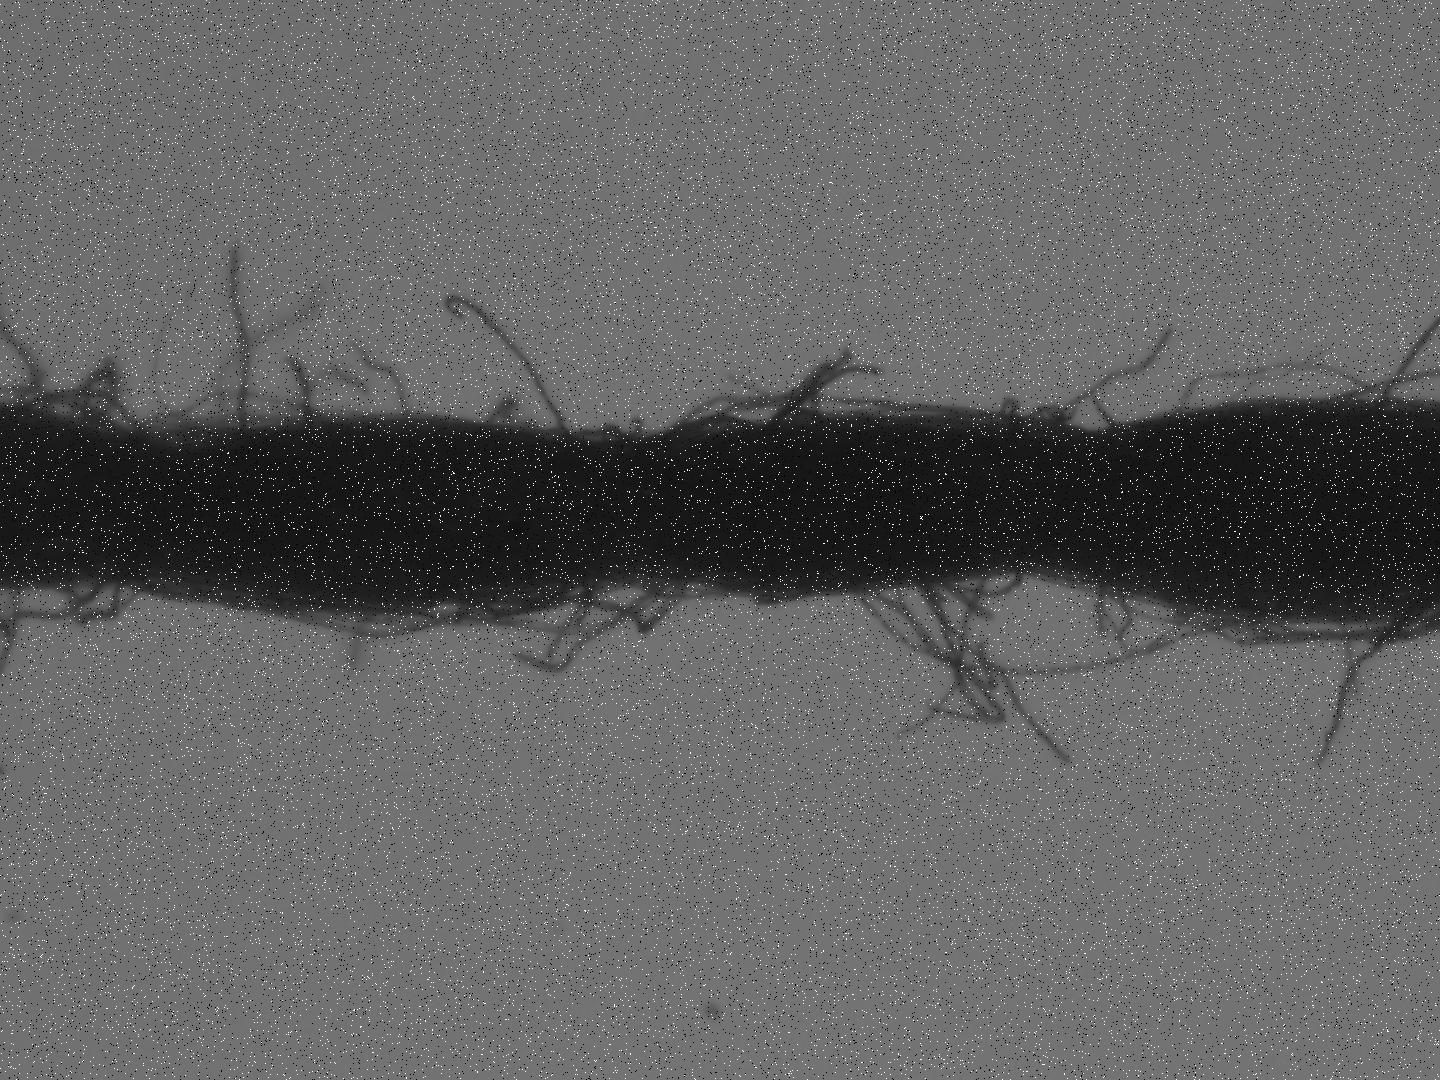loop_fiber: (1191, 600, 1438, 646), (511, 575, 692, 635), (293, 591, 481, 638), (22, 382, 147, 442), (1117, 590, 1272, 626), (66, 360, 122, 441), (65, 582, 147, 618), (937, 569, 1027, 598), (998, 402, 1074, 427)
protruding_fiber: (441, 293, 577, 437), (1311, 613, 1409, 768), (1066, 321, 1176, 415), (227, 242, 253, 425)
